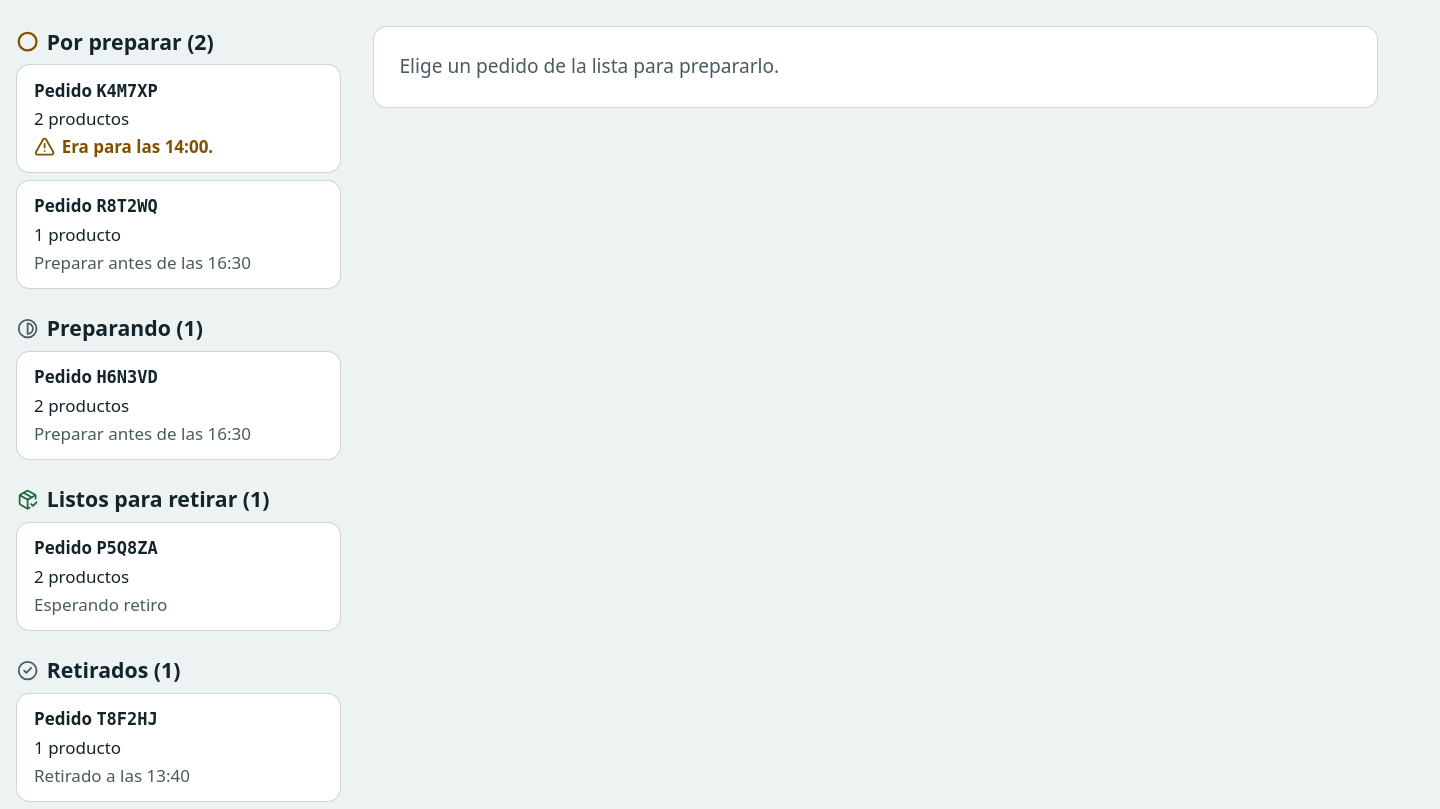
it: Preparando › «No lo tengo» muestra la nota de no reemplazar en la línea y en su descripción; «Lo tengo» la quita
(page scrolled)
Expected: the heading "Por preparar (2)" is shown, [47,26,214,56]
Click the button "Pedido H6N3VD 2 productos Preparar antes de las 16:30". click: [63, 377]
box: [17,352,340,459]
(page scrolled)
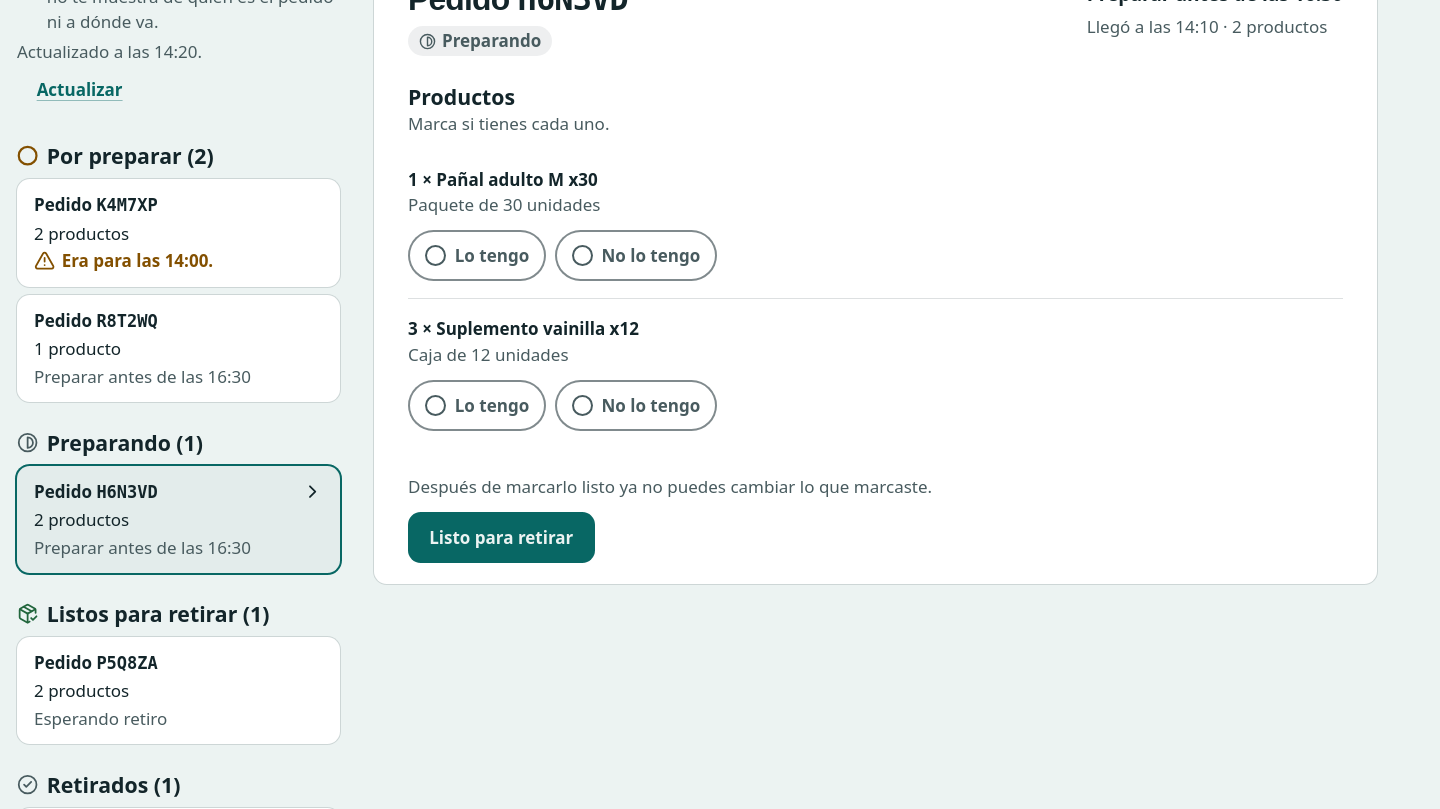
Click the radio button labelled "No lo tengo" below "Caja de 12 unidades". click: [636, 406]
box: [555,380,717,431]
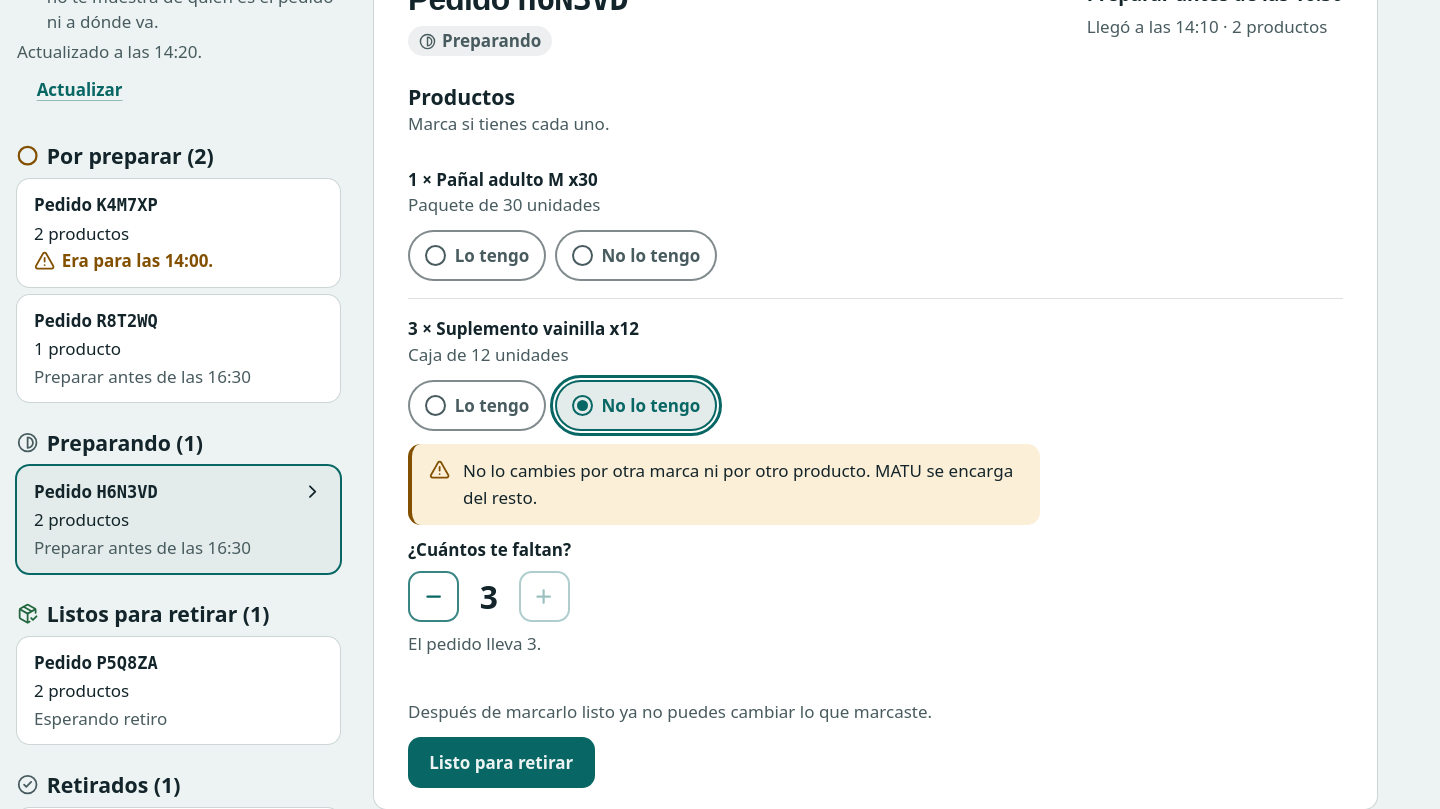
Expected: the text "No lo cambies por otra marca ni por otro producto. MATU se encarga del resto." is shown, [463,456,1023,512]
Click the radio button labelled "Lo tengo" below "Caja de 12 unidades". click: [477, 406]
box: [408,380,546,431]
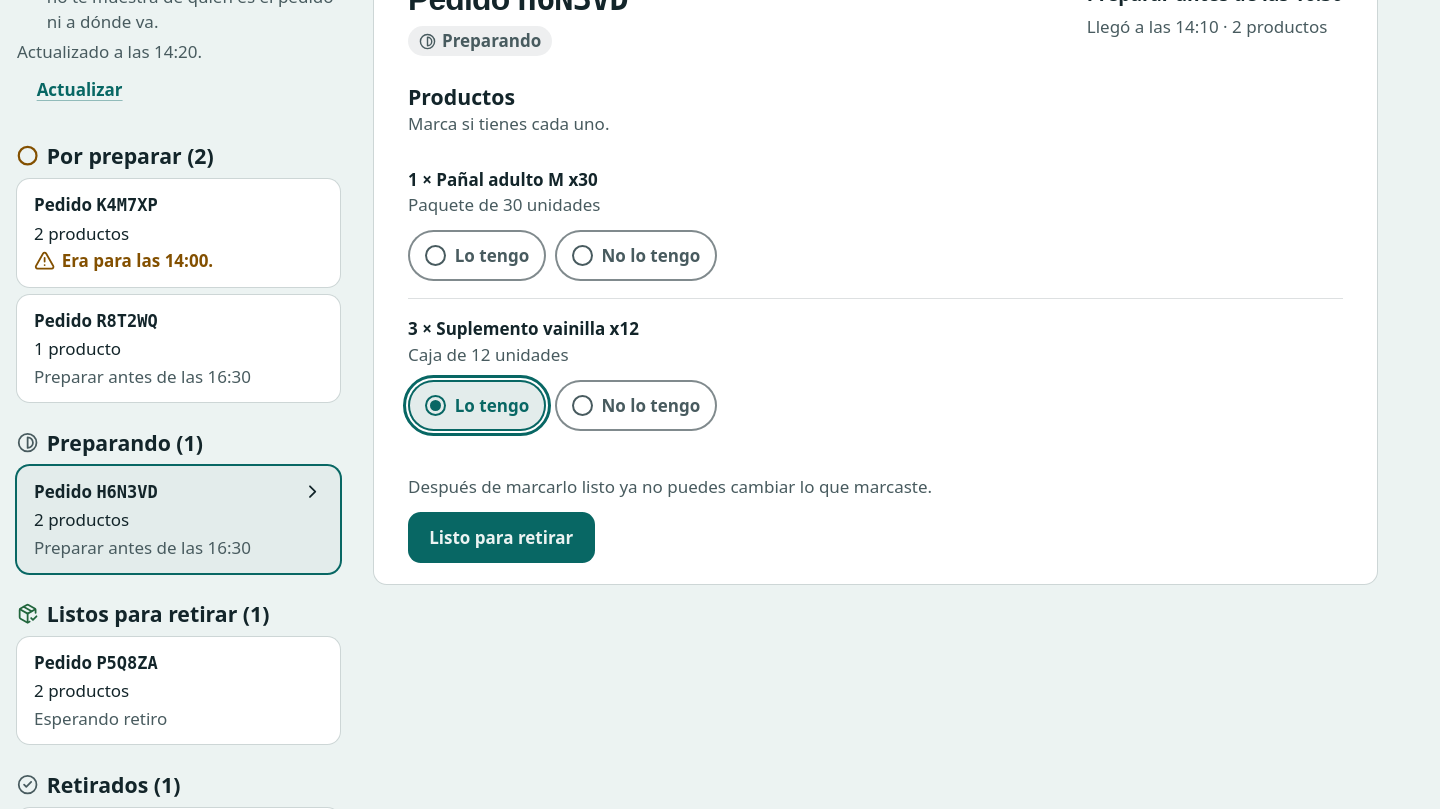
Expected: the text "No lo cambies" is gone
